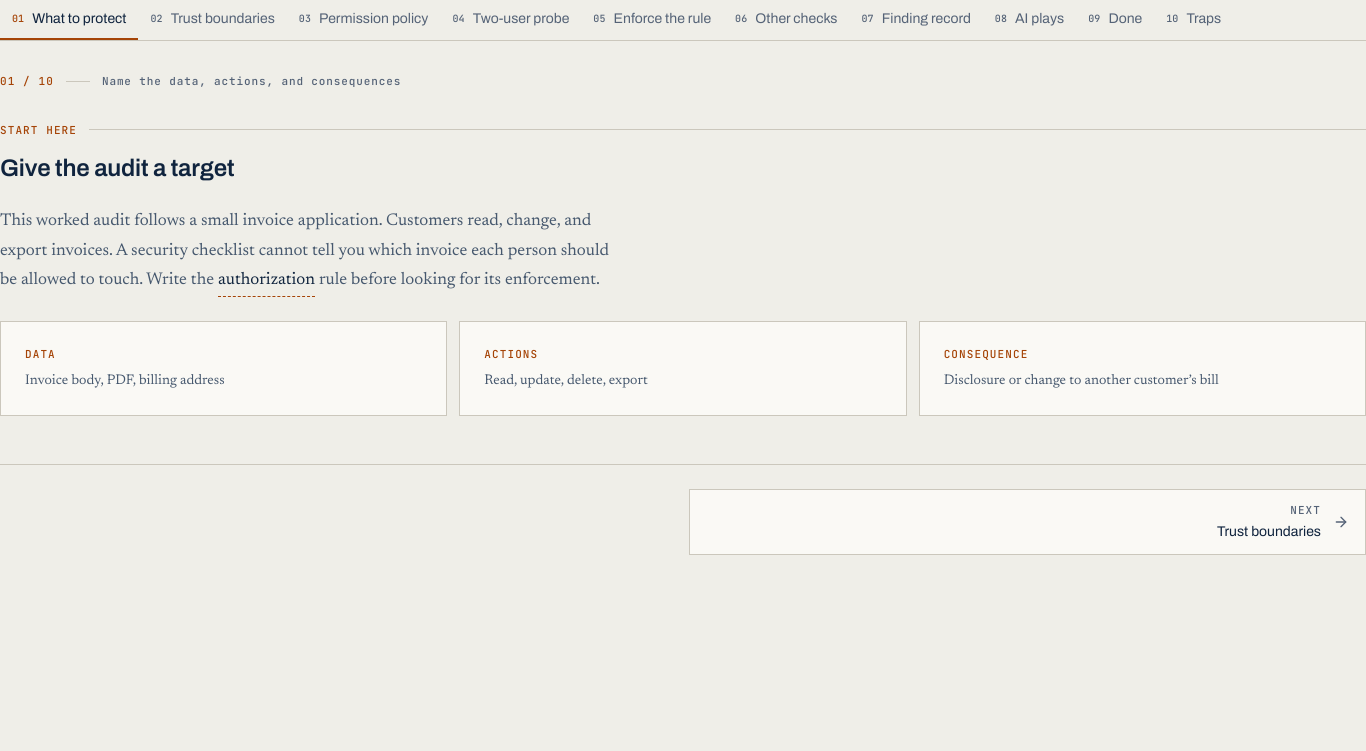
the two-user probe locks a choice before explaining the denial
The image size is (1366, 751).
Click the tab "04 Two-user probe" at (511, 20), box [440, 0, 581, 40]
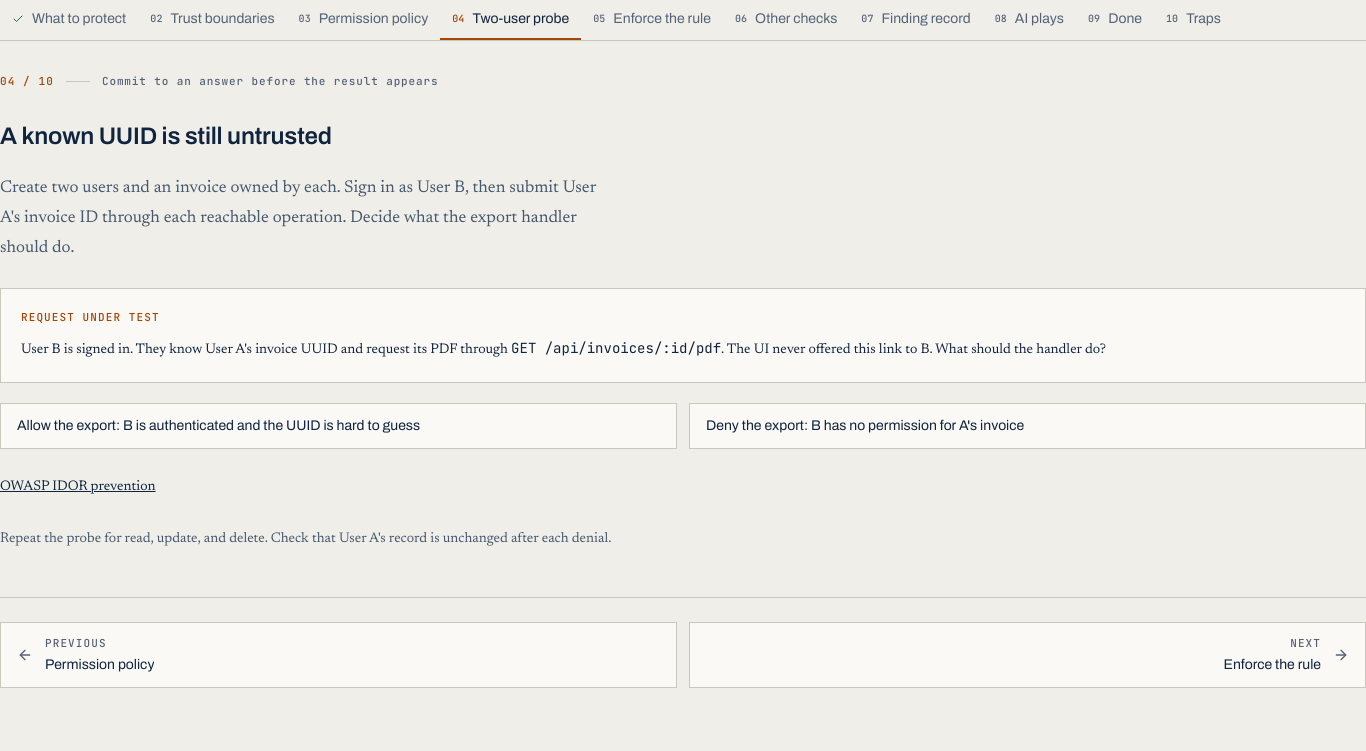
Expected: the panel does not show "No PDF bytes returned"
Click the button "Allow the export" at (338, 426), box [0, 403, 677, 449]
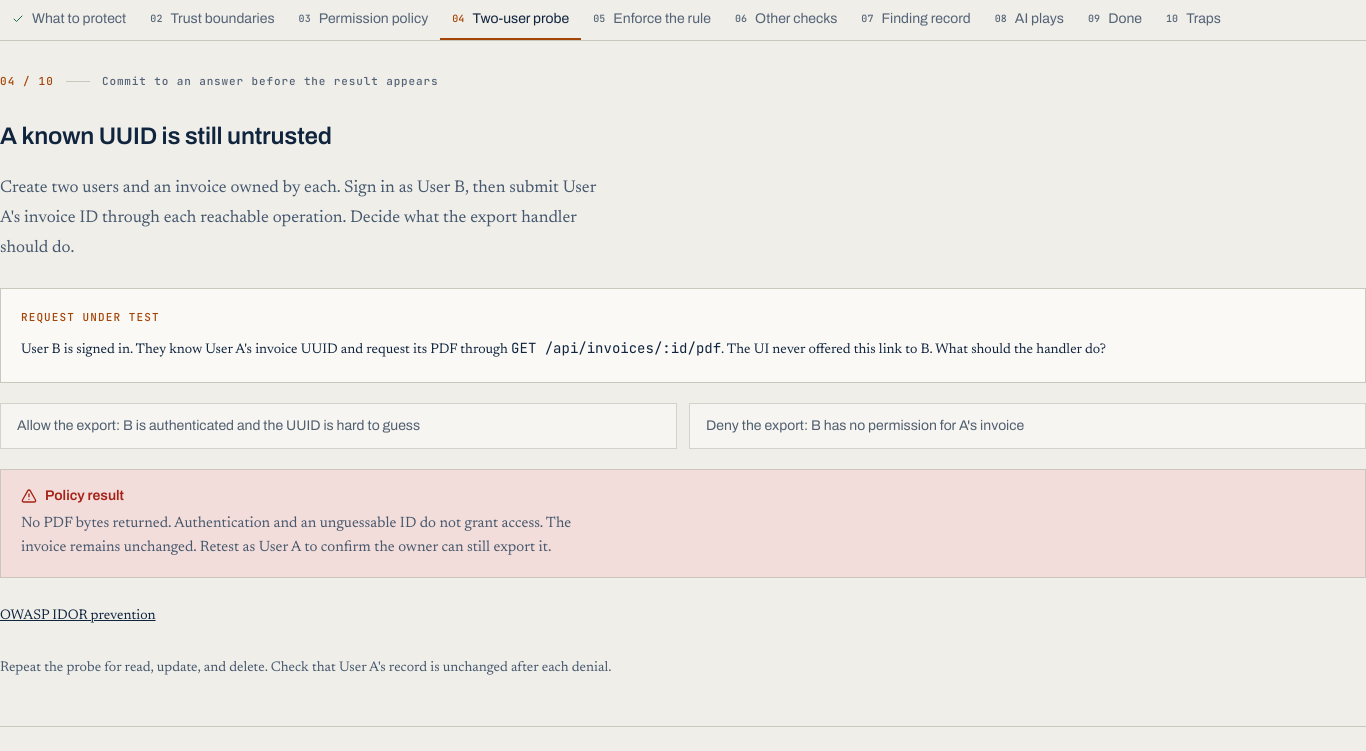
Now the button "Deny the export: B has no permission for A's invoice" is disabled, box [689, 403, 1365, 449]
